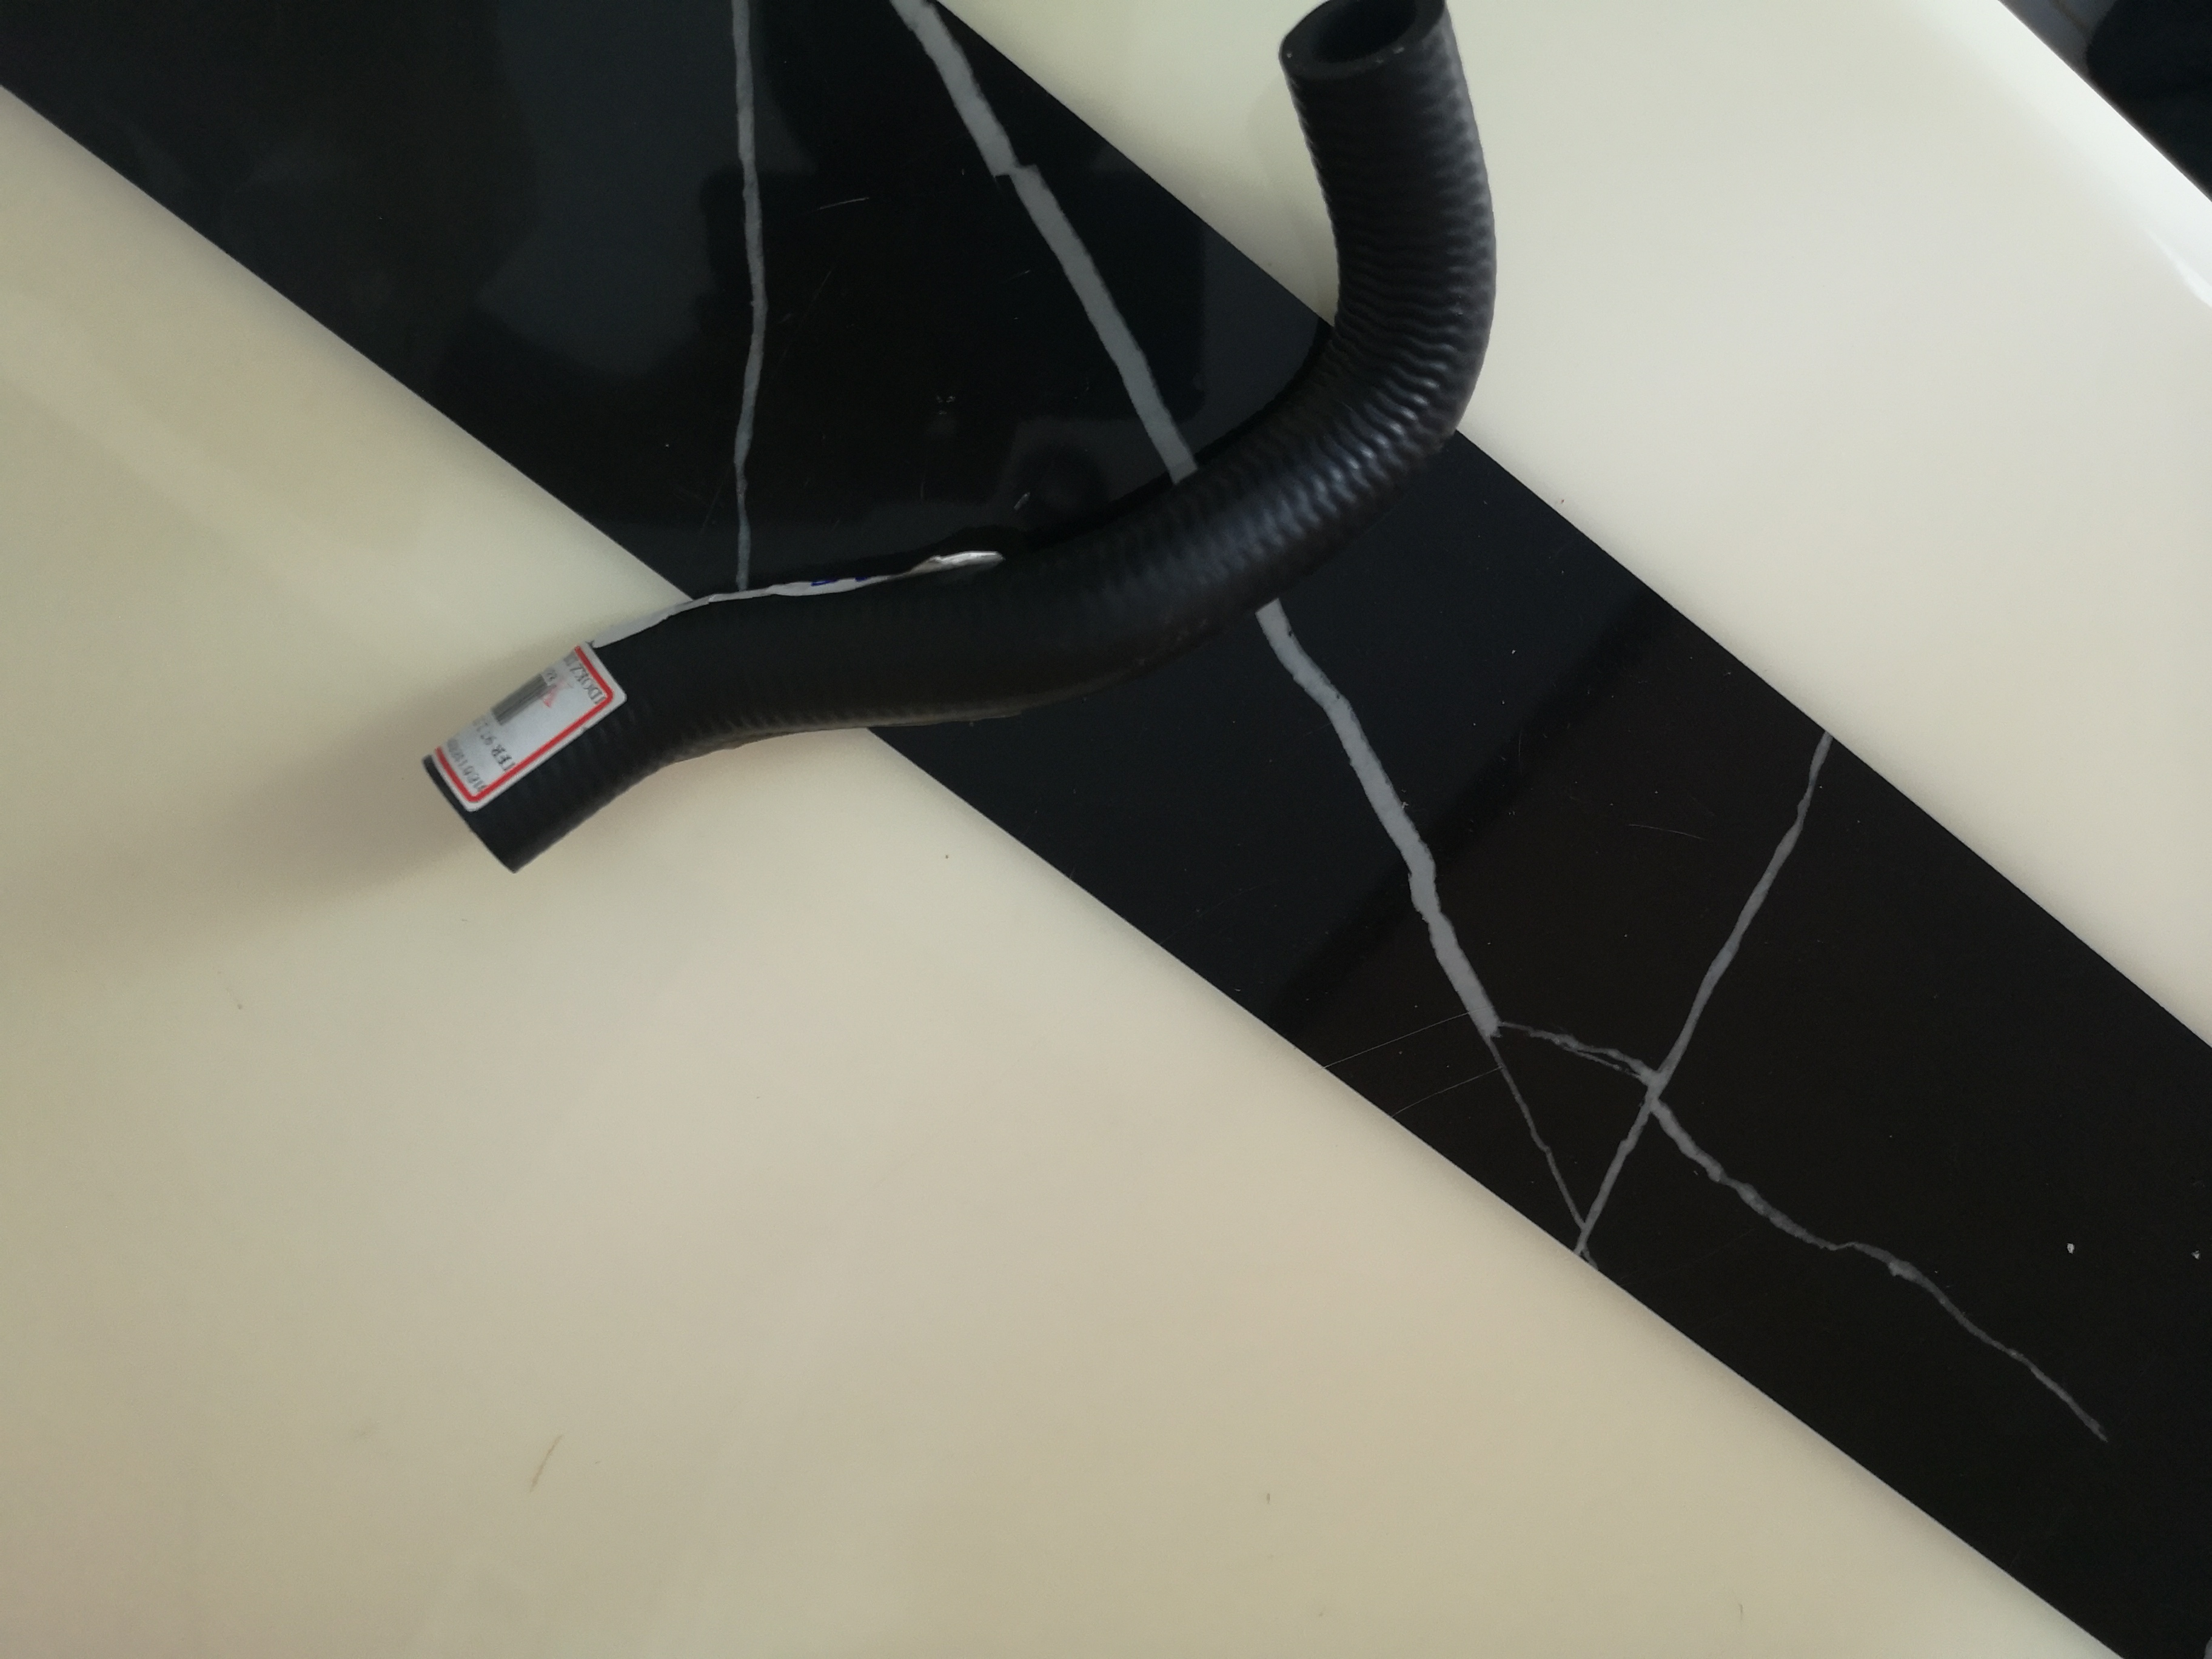ท่อยางน้ำมันเลี้ยงเทอร์โบ: (380, 9, 1557, 866)
